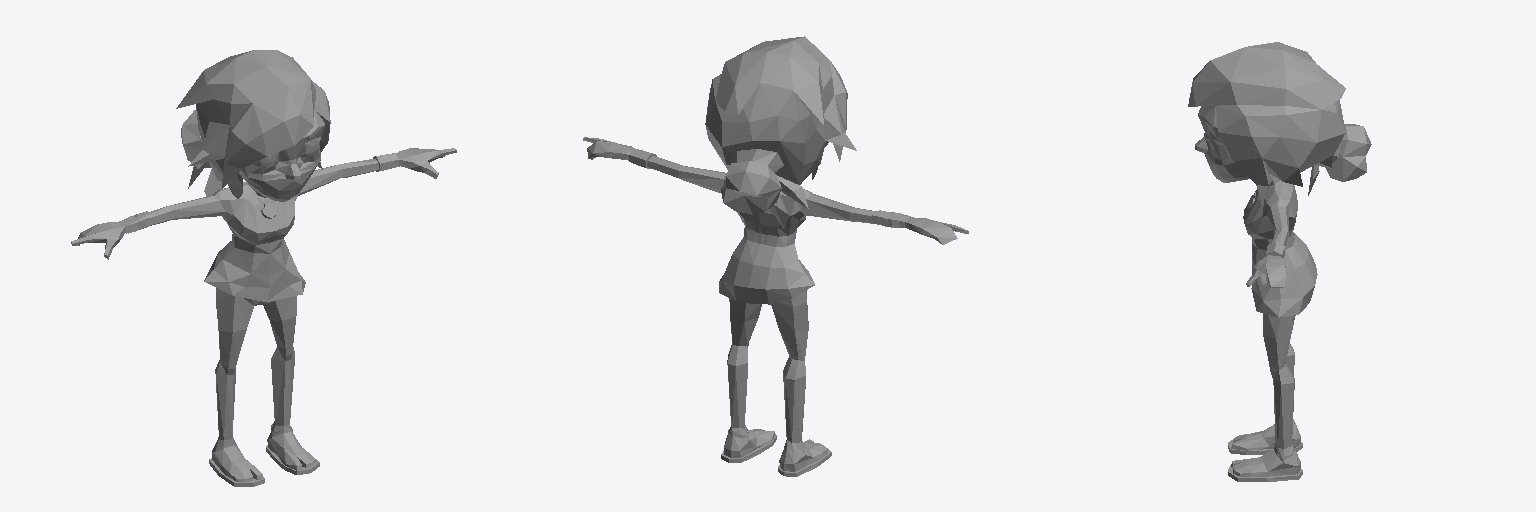
The model's file is Kim.obj.
The picture shows the model from 3 angles: view 1: azimuth 30°, elevation 25°; view 2: azimuth 150°, elevation 25°; view 3: azimuth 270°, elevation 25°; orthographic projection.
Parts seen in each view (by area): view 1: kim; view 2: kim; view 3: kim.
Boxes of the visible parts, x1=… form: kim: x1=71, y1=50, x2=456, y2=486; kim: x1=583, y1=36, x2=968, y2=476; kim: x1=1188, y1=42, x2=1371, y2=481.
Size of the model in its own units: 9.68 by 9.87 by 4.01.